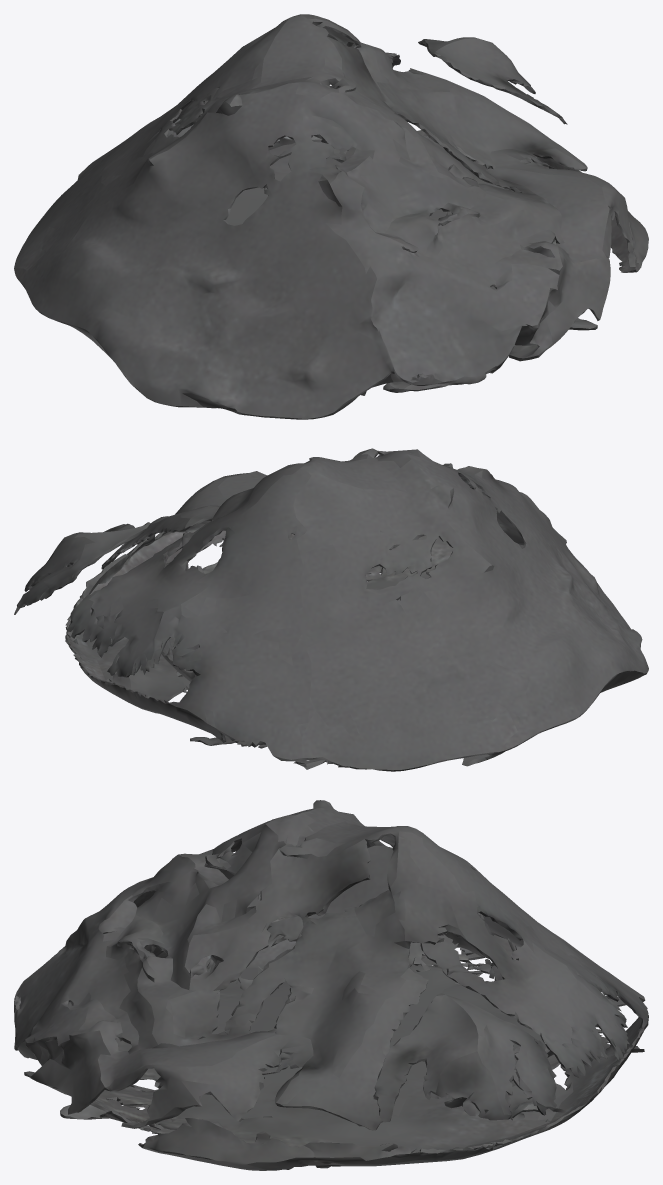
3 views of the same model, one above another, from view 1: azimuth 30°, elevation 25°; view 2: azimuth 150°, elevation 25°; view 3: azimuth 270°, elevation 25° (orthographic). The views are drawn at different scales.
Parts seen in each view (by area): view 1: world; view 2: world; view 3: world.
Boxes of the visible parts, x1,y1,x2,y2 form: world: (14,14,648,419); world: (14,448,648,771); world: (14,800,648,1170).
Size of the model in its own units: 0.45 by 0.1944 by 0.4521.
1 material, 1 textured.
